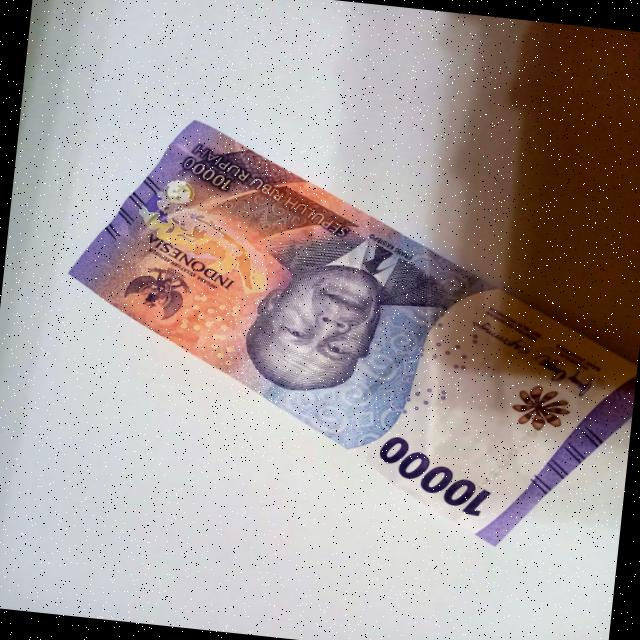10K: (34, 102, 640, 566)
